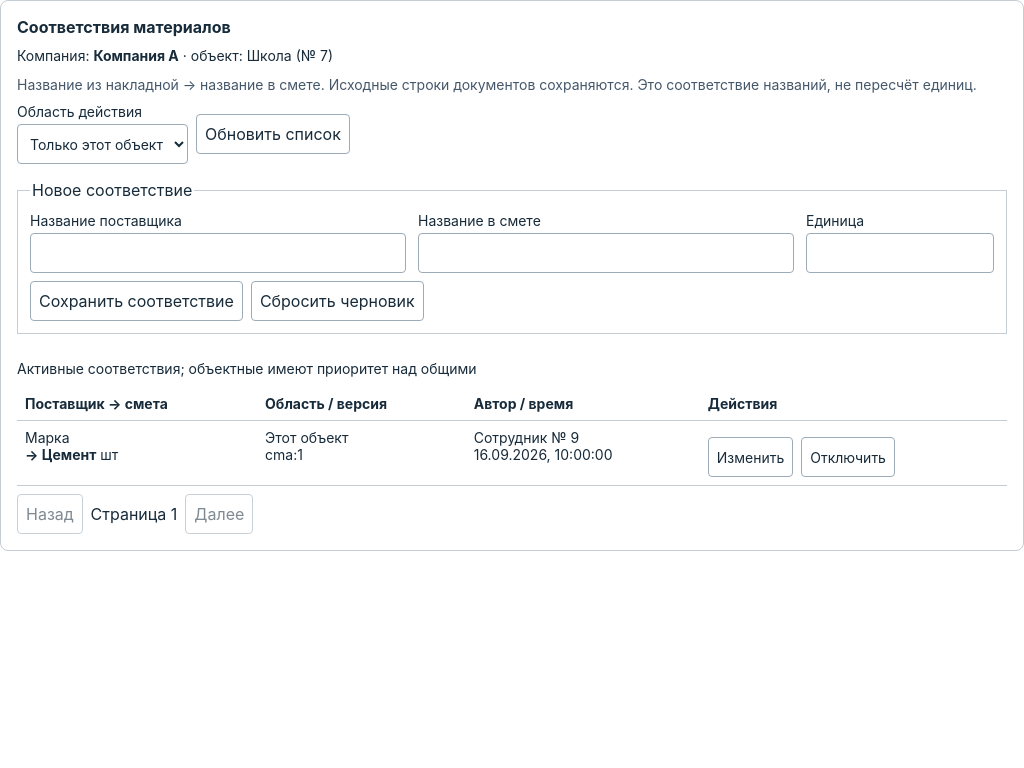
Test: conflict preserves draft and never retries a mutation automatically
Click the button "Изменить" at (751, 457), box [708,437,793,477]
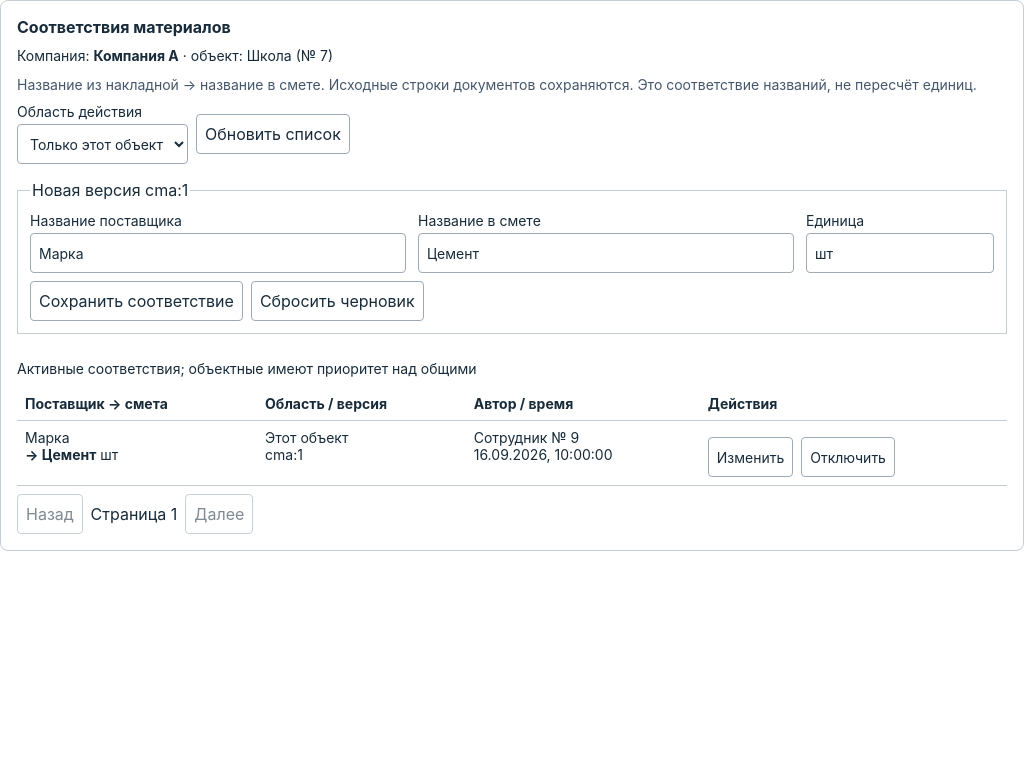
Replace the text in the field labelled "Название в смете" with "Новый цемент" at (606, 253), box [418,233,794,273]
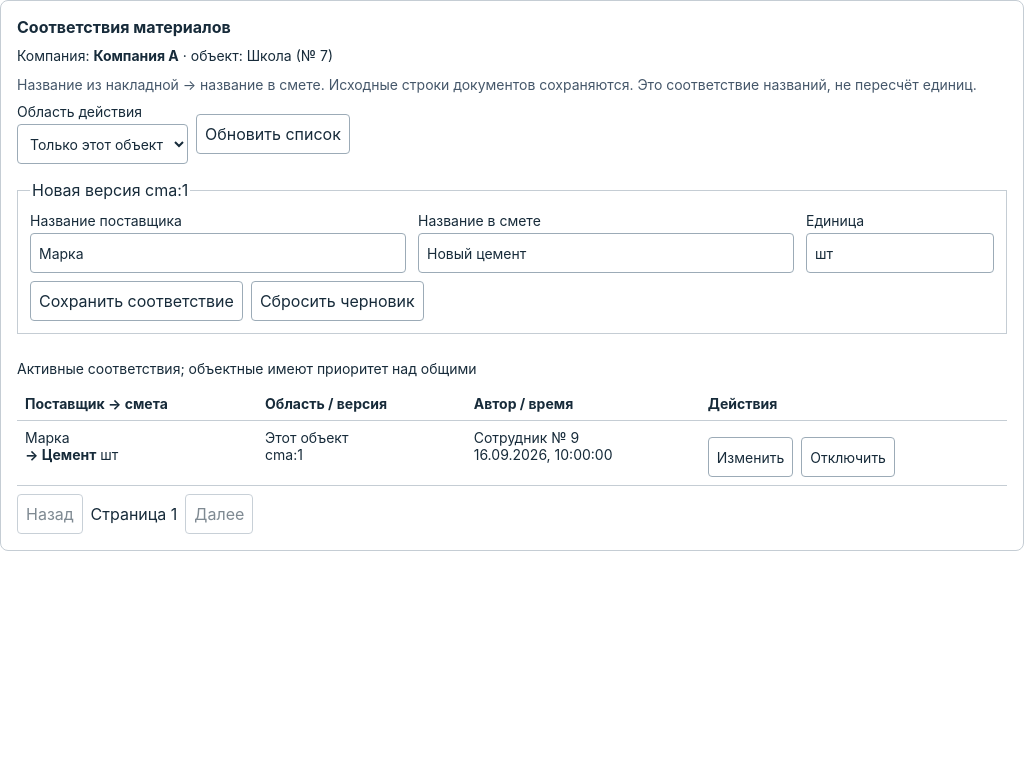
Click the button "Сохранить соответствие" at (136, 301), box [30,281,243,321]
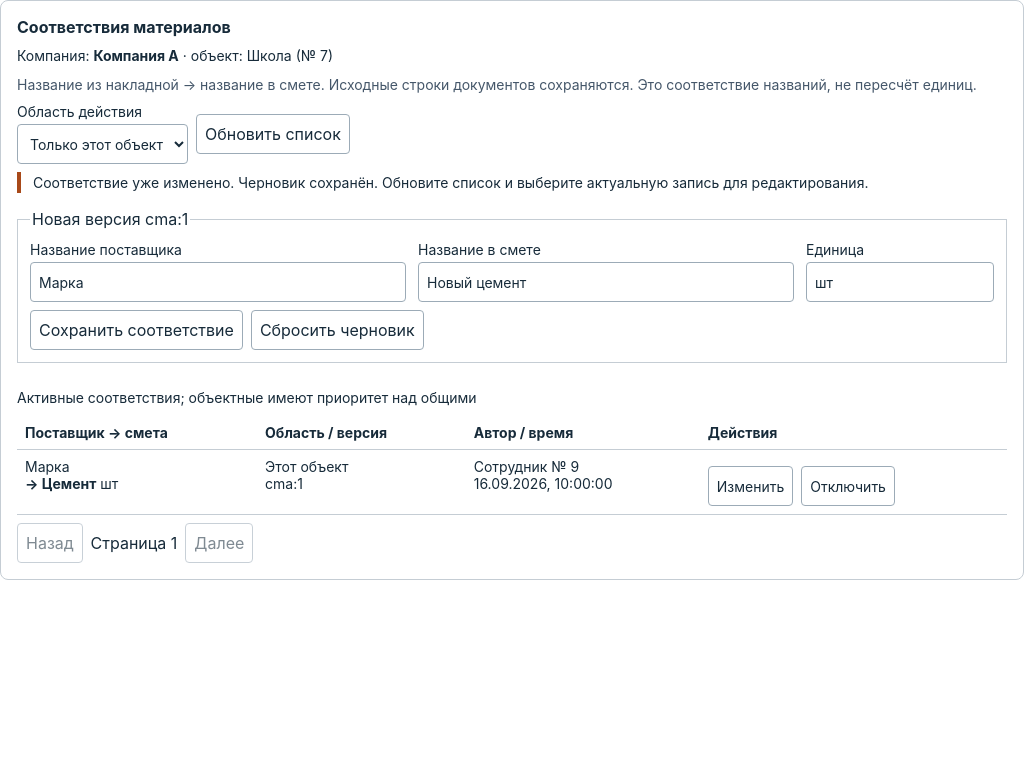
Check: the text "Черновик сохранён" is shown, box [33,174,868,191]
